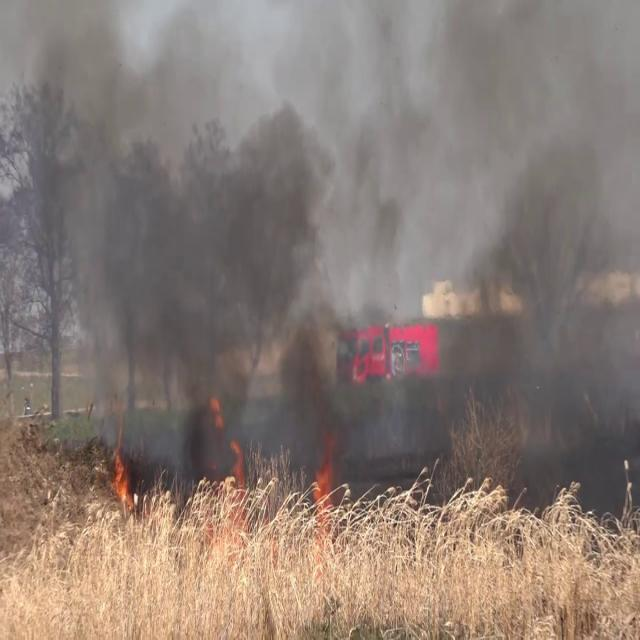Fire: (108, 428, 134, 506)
Smoke: (24, 2, 376, 476), (359, 0, 639, 479)
